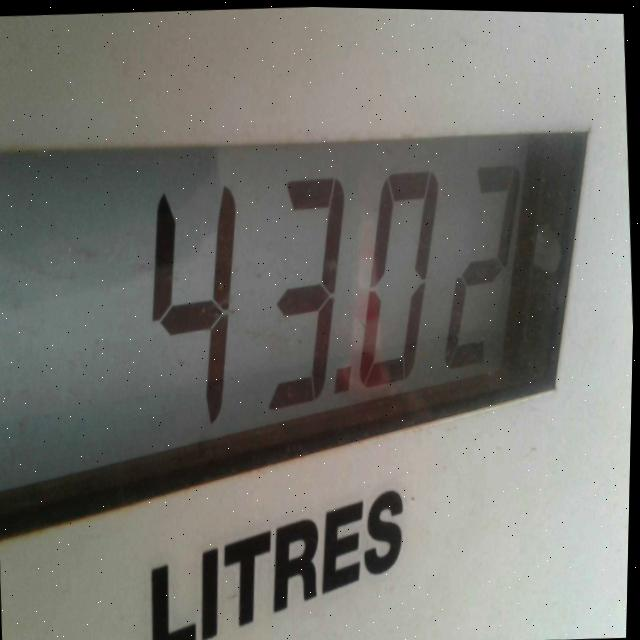.: (335, 362, 353, 392)
0: (352, 169, 446, 392)
2: (441, 156, 525, 364)
3: (268, 183, 343, 403)
4: (147, 182, 248, 432)
